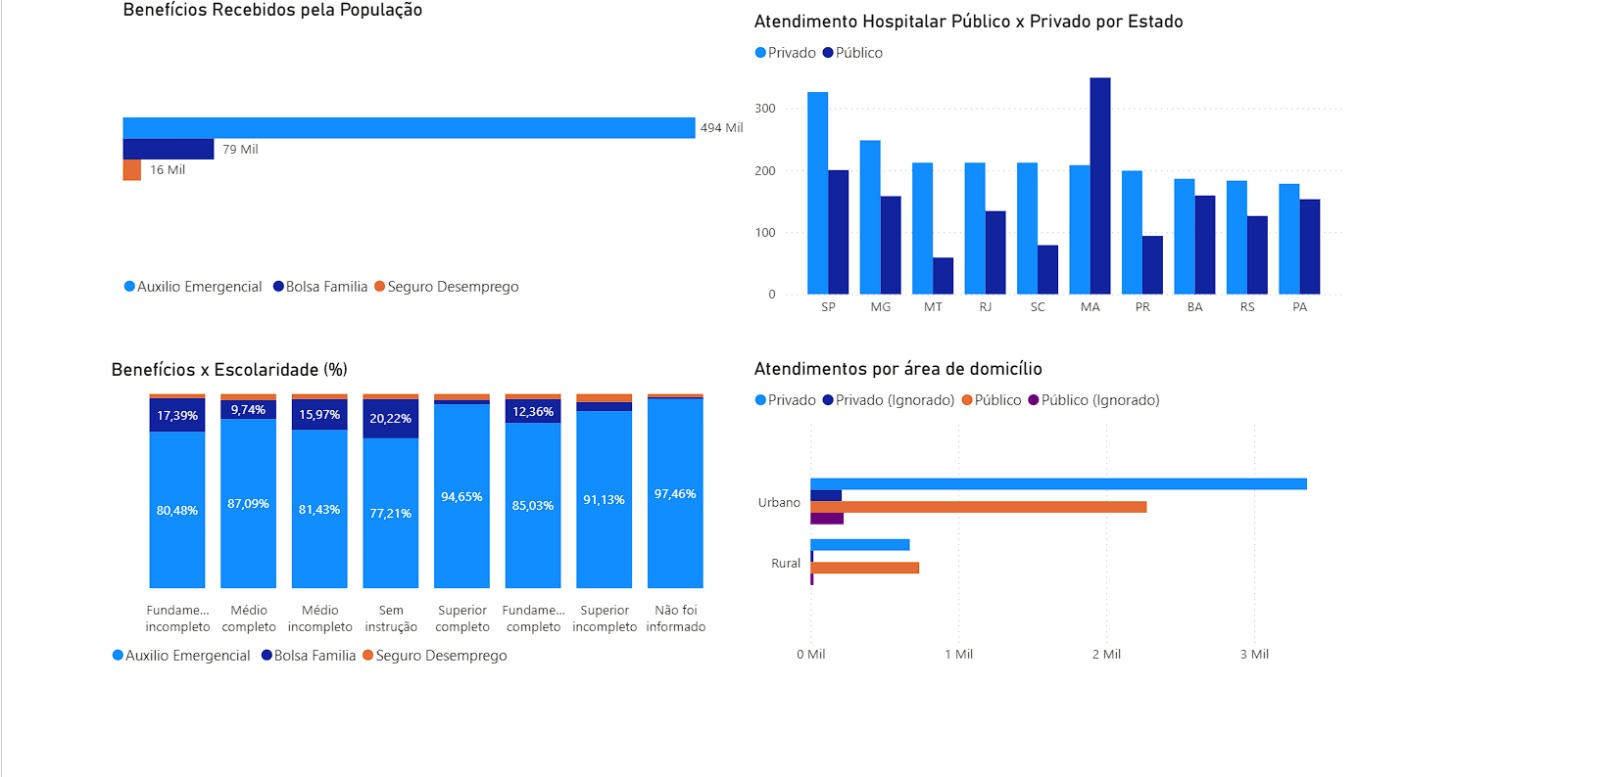

The page's visual inventory and layout, read from the dashboard file:
{"tool":"powerbi","page":{"name":"c. econômicas","canvas":[1280,720],"ordinal":2},"visuals":[{"type":"clusteredBarChart","title":"Benefícios Recebidos pela População","fields":{"Y":["Sum(pnad_sot (2).auxilio_emergencial - Copiar)","Sum(pnad_sot (2).bolsa_familia - Copiar)","Sum(pnad_sot (2).seguro_desemprego - Copiar)"]},"box":[10.4,0,580.5,284.4],"z":0},{"type":"hundredPercentStackedColumnChart","title":"Benefícios x Escolaridade (%)","fields":{"Category":["pnad_sot (2).escolaridade"],"Y":["Sum(pnad_sot (2).auxilio_emergencial - Copiar)","Sum(pnad_sot (2).bolsa_familia - Copiar)","Sum(pnad_sot (2).seguro_desemprego - Copiar)"]},"box":[0,331.2,581.8,292.2],"z":1000},{"type":"clusteredColumnChart","title":"Atendimento Hospitalar Público x Privado por Estado","fields":{"Y":["Sum(pnad_sot (2).atendimento_priv_hospital - Copiar)","Sum(pnad_sot (2).atendimento_sus_hospital - Copiar)"],"Category":["pnad_sot (2).uf_sigla"]},"box":[590.9,10.4,550.6,292.2],"z":2000},{"type":"clusteredBarChart","title":"Atendimentos por área de domicílio","fields":{"Y":["Sum(pnad_sot (2).atendimento_priv_hospital - Copiar)","Sum(pnad_sot (2).atendimento_priv_ignorado)","Sum(pnad_sot (2).atendimento_sus_hospital - Copiar)","Sum(pnad_sot (2).atendimento_sus_ignorado)"],"Category":["pnad_sot (2).situacao_domicilio"]},"box":[591,331,551,292],"z":3000}]}

Visuals, with their boxes on the page's 1280x720 design canvas (x1, y1, x2, y2). These are canvas units, not pixel positions in the 1600x777 screenshot, which may show the page scaled, cropped or inside an application window:
"Benefícios Recebidos pela População" clusteredBarChart: (x1=10, y1=0, x2=591, y2=284)
"Benefícios x Escolaridade (%)" hundredPercentStackedColumnChart: (x1=0, y1=331, x2=582, y2=623)
"Atendimento Hospitalar Público x Privado por Estado" clusteredColumnChart: (x1=591, y1=10, x2=1142, y2=303)
"Atendimentos por área de domicílio" clusteredBarChart: (x1=591, y1=331, x2=1142, y2=623)
